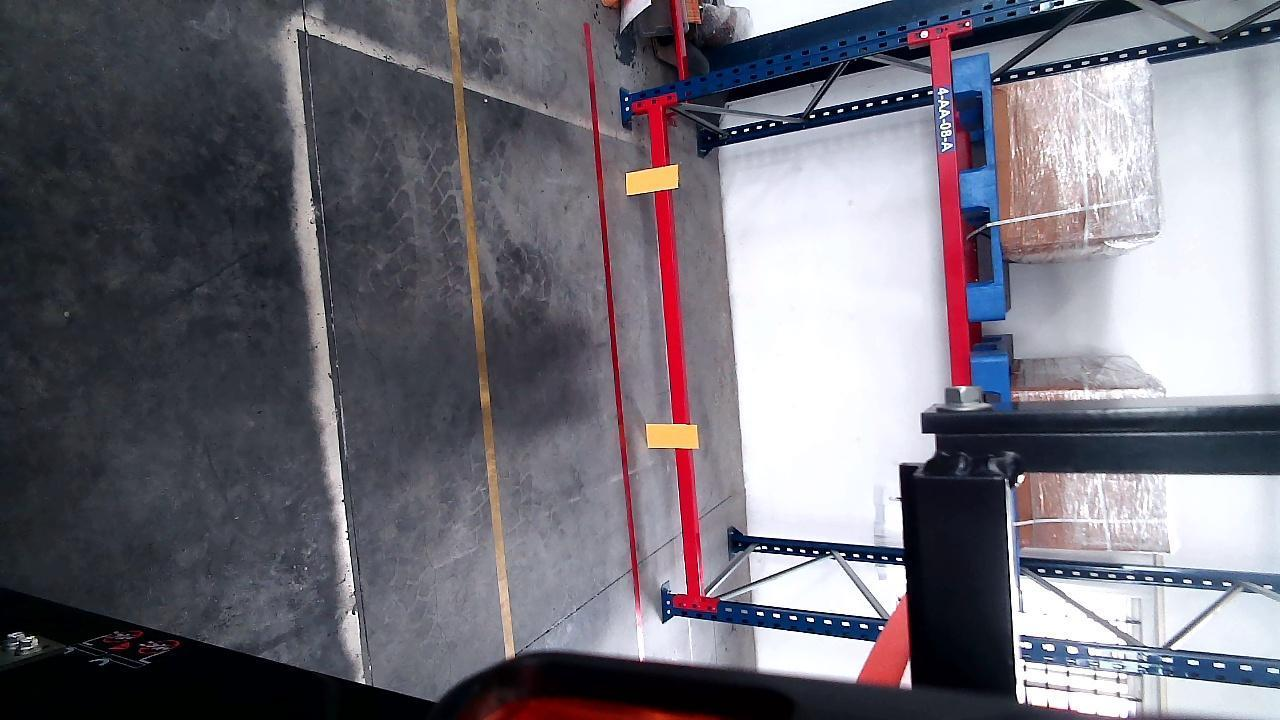h_rack: (651, 99, 701, 594), (933, 38, 967, 374), (1007, 648, 1280, 680)
orange_strip: (624, 164, 678, 194), (647, 423, 697, 448)
red_line: (580, 21, 645, 661)
small_pallet: (956, 51, 1001, 323)
yellow_line: (443, 0, 522, 670)
